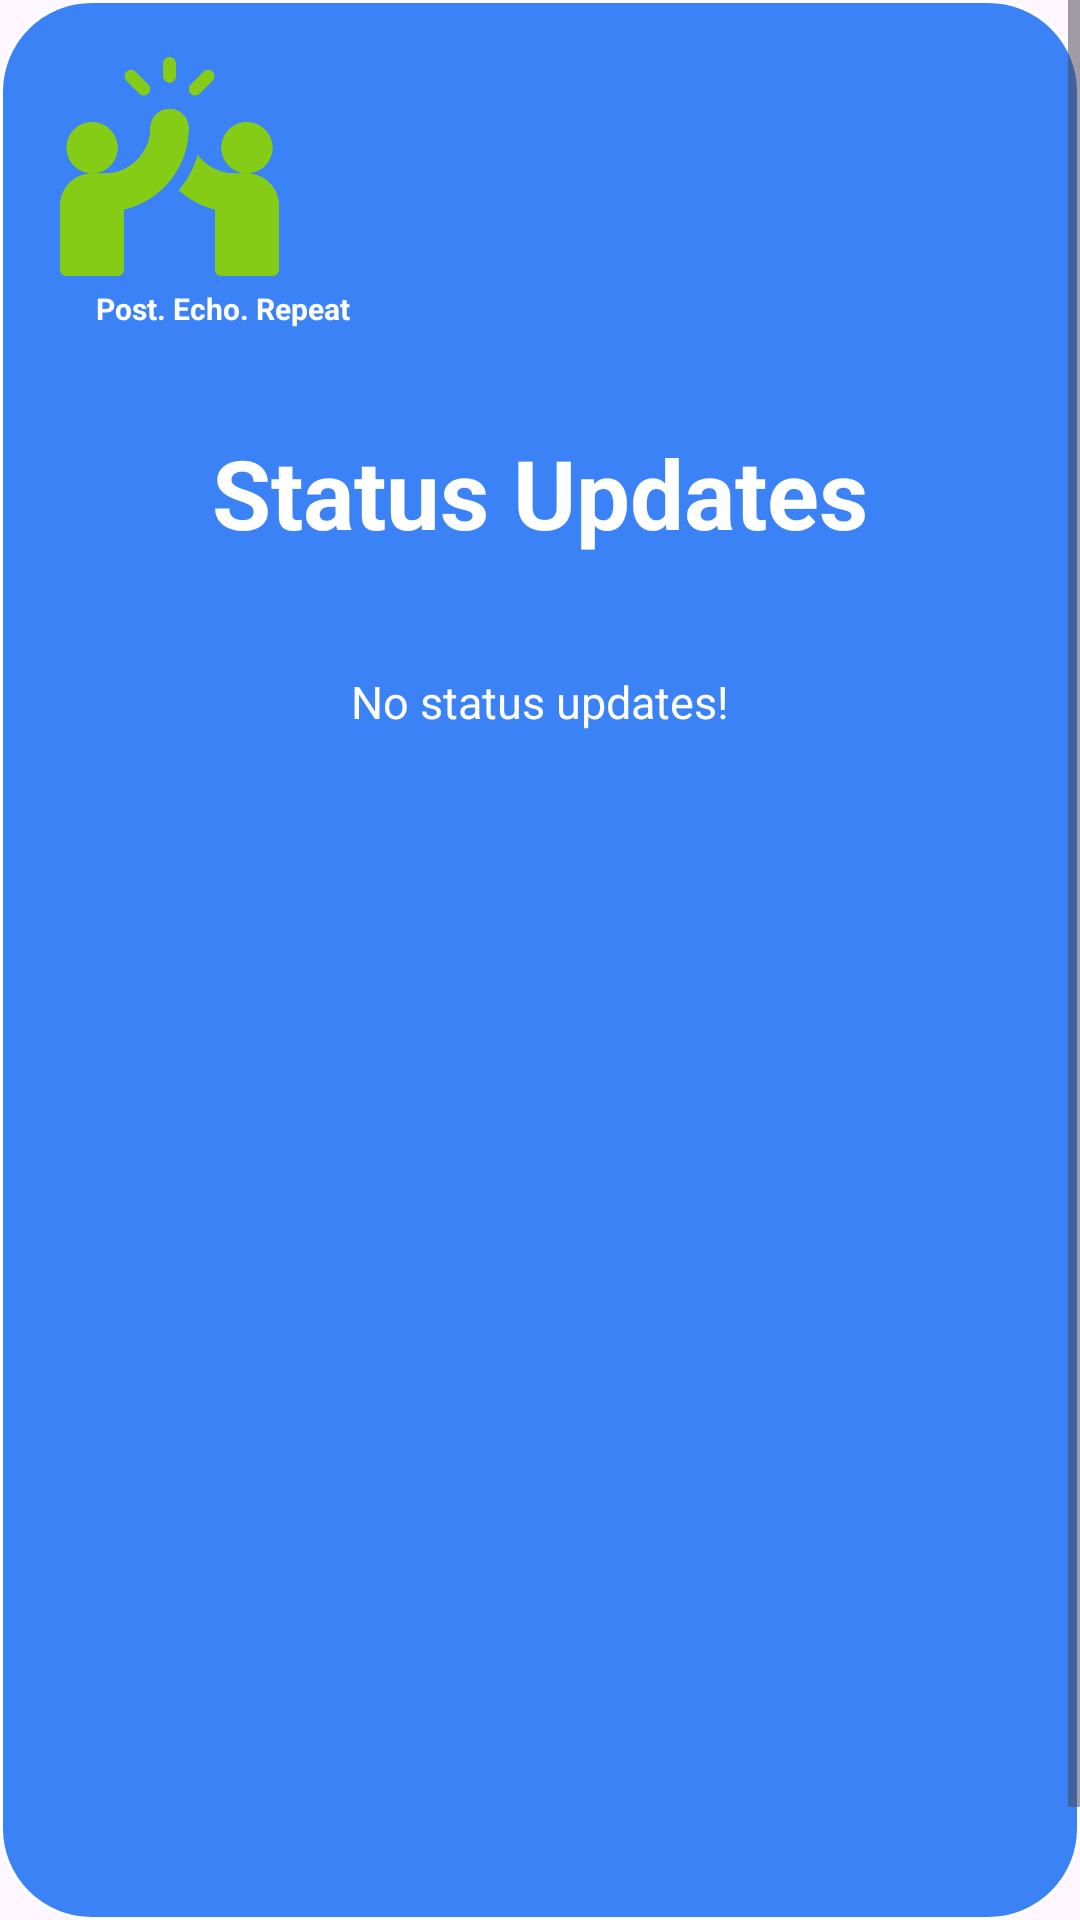

Where to tap for icons on this 1080 × 1920 app screen, as (x=x, y=y):
high five: (x=169, y=166)
